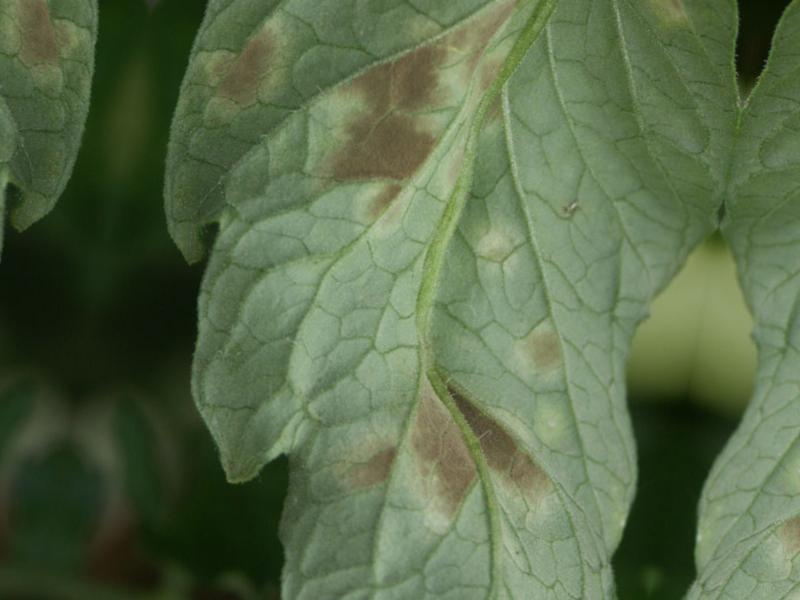Tomato mold leaf: (56, 0, 760, 600)
